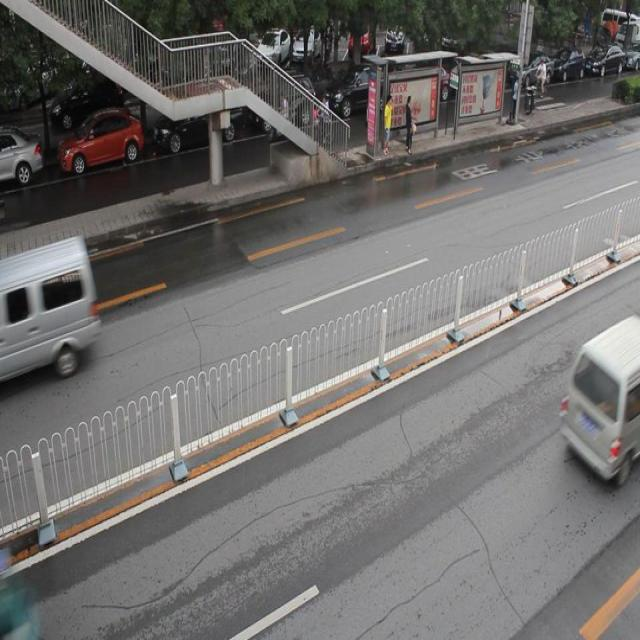car: (57, 106, 142, 173), (154, 97, 242, 148), (243, 80, 317, 138), (323, 67, 396, 123), (1, 127, 45, 187)
truck: (0, 235, 100, 382), (560, 317, 640, 483)
